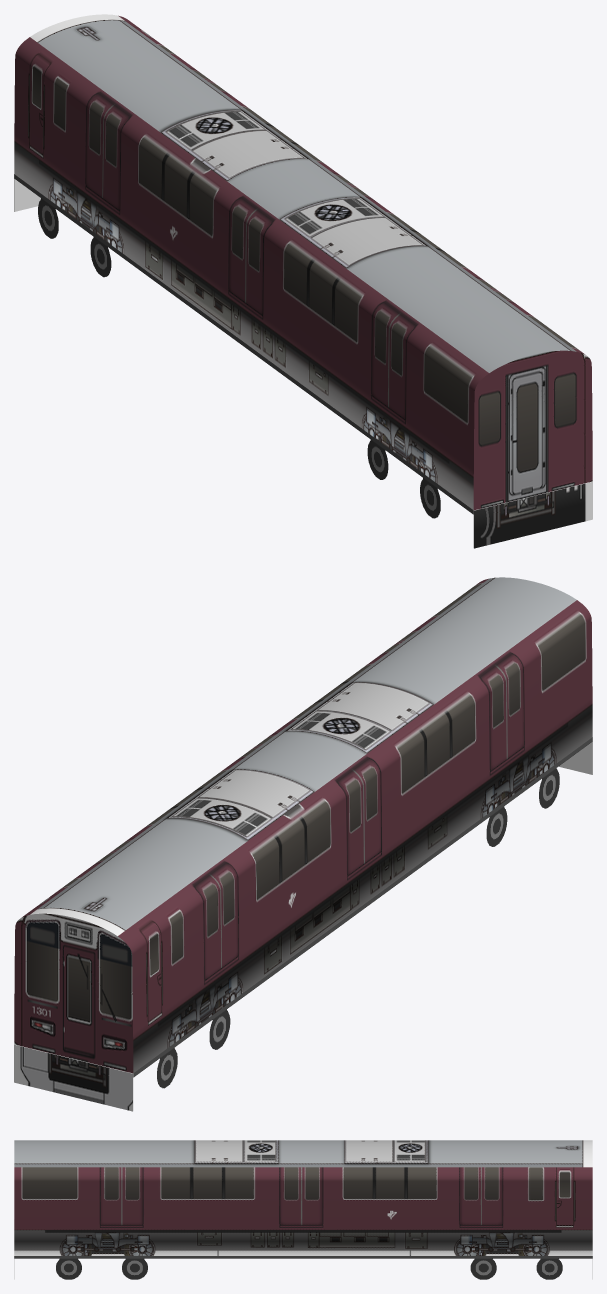
Rendered from car4.glb.
3 renders of one model, top to bottom at view 1: azimuth 30°, elevation 25°; view 2: azimuth 150°, elevation 25°; view 3: azimuth 270°, elevation 25°, orthographic. The views are drawn at different scales.
Visible parts, largest first — view 1: hankyu-1300-car4; view 2: hankyu-1300-car4; view 3: hankyu-1300-car4.
Boxes of the visible parts, x1,y1,x2,y2 form: hankyu-1300-car4: [14, 14, 592, 548]; hankyu-1300-car4: [14, 577, 592, 1111]; hankyu-1300-car4: [14, 1140, 592, 1279].
Bounding box in the file's own units: 2.83 × 4.07 × 18.93.
Materials: 9 (8 with a texture image).
